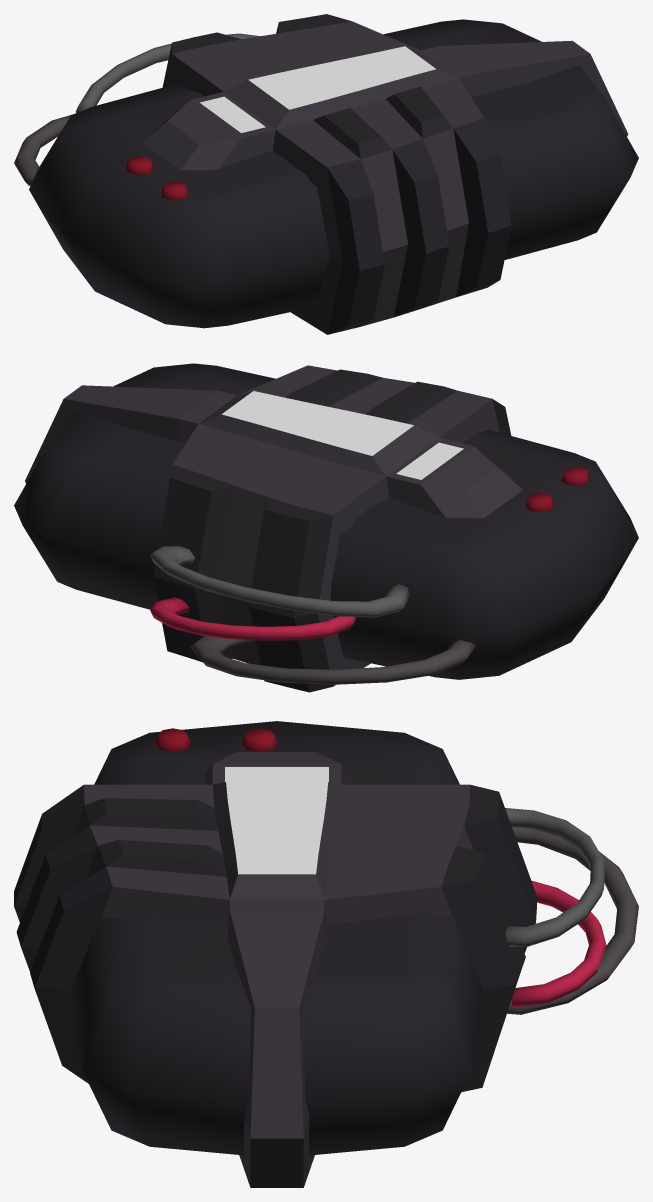
The picture shows the model from 3 angles, top to bottom: view 1: azimuth 30°, elevation 25°; view 2: azimuth 150°, elevation 25°; view 3: azimuth 270°, elevation 25°; orthographic projection. The views are drawn at different scales.
Visible parts, largest first — view 1: X4; view 2: X4; view 3: X4.
Part boxes in pixels (left/top/right/bottom): X4: left=14, top=14, right=638, bottom=334; X4: left=14, top=363, right=638, bottom=692; X4: left=14, top=721, right=638, bottom=1187.
Size of the model in its own units: 33.11 by 10.27 by 26.21.
